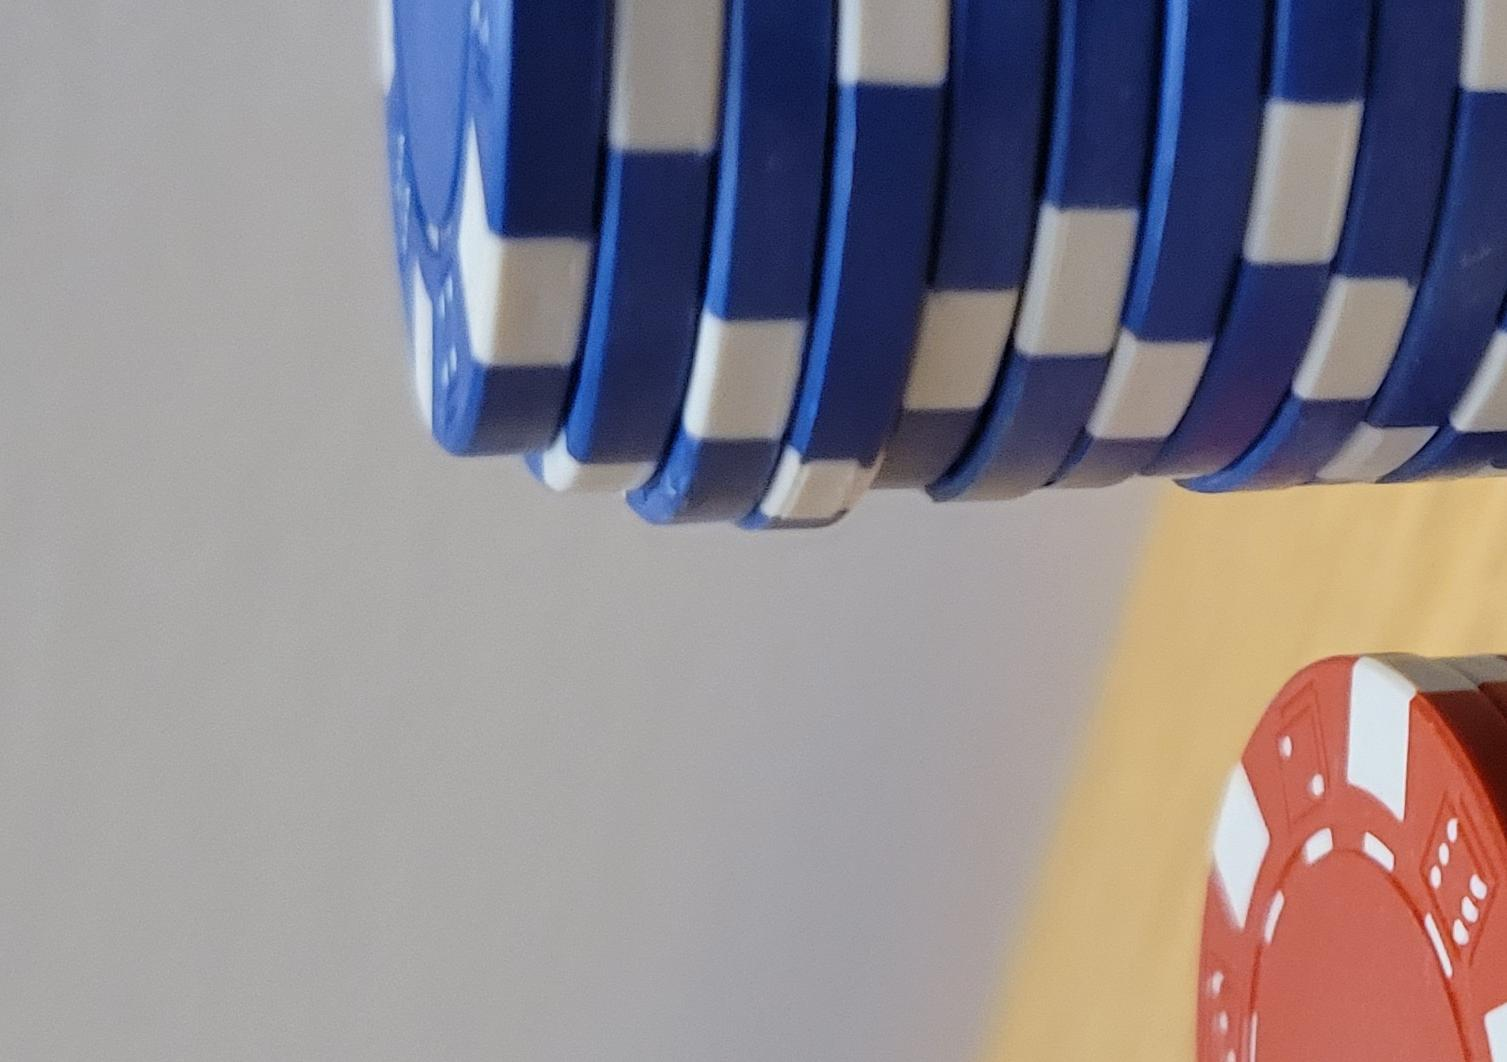Chip: (1, 348, 1041, 1062)
